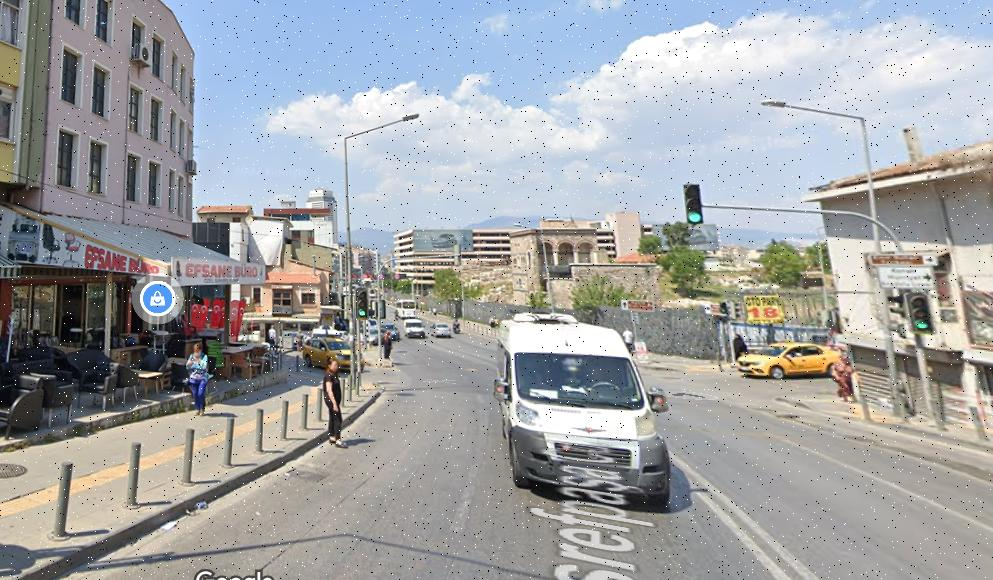greenlight: (910, 294, 932, 334), (684, 185, 701, 226), (356, 287, 371, 318)
